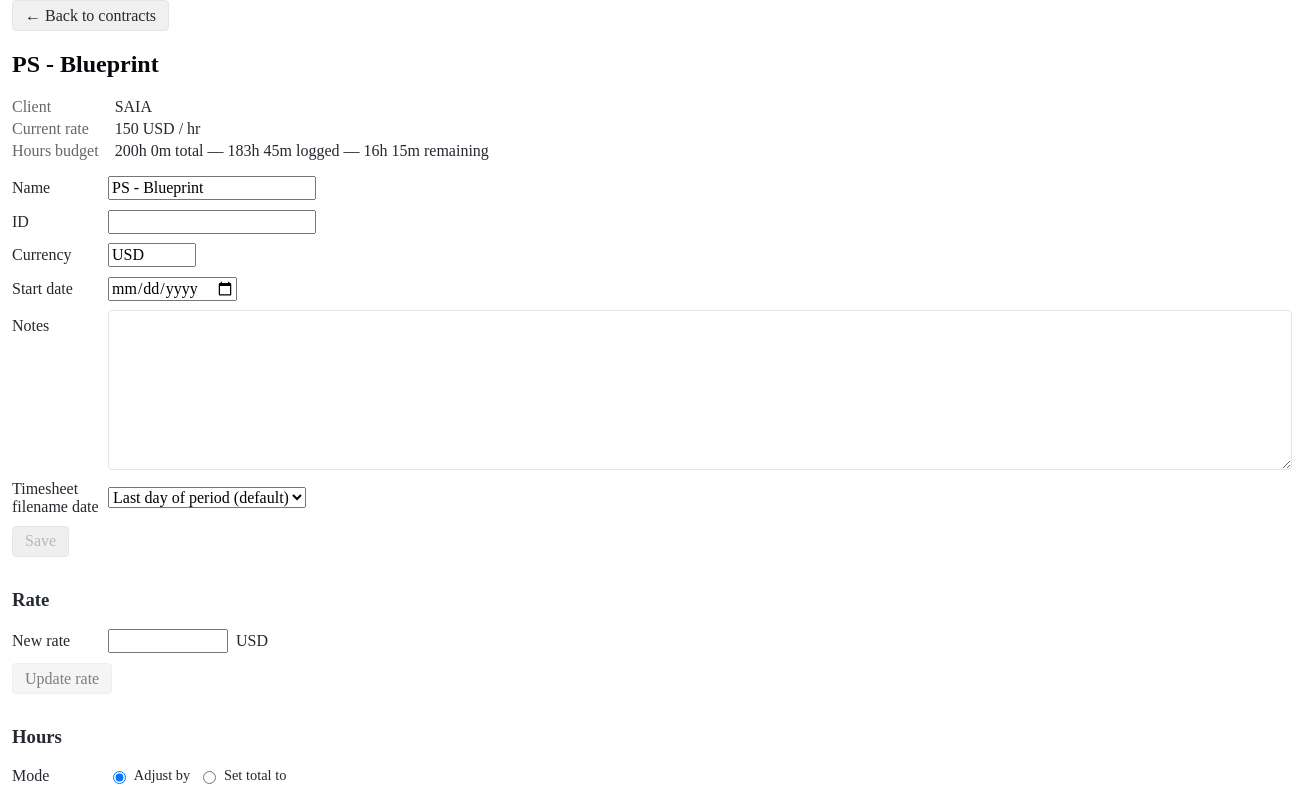
Test: Contract detail Hours section › previews the resulting budget and remaining hours before committing
Click the radio button labelled "Set total to" at (210, 778), box [203,771,216,784]
(page scrolled)
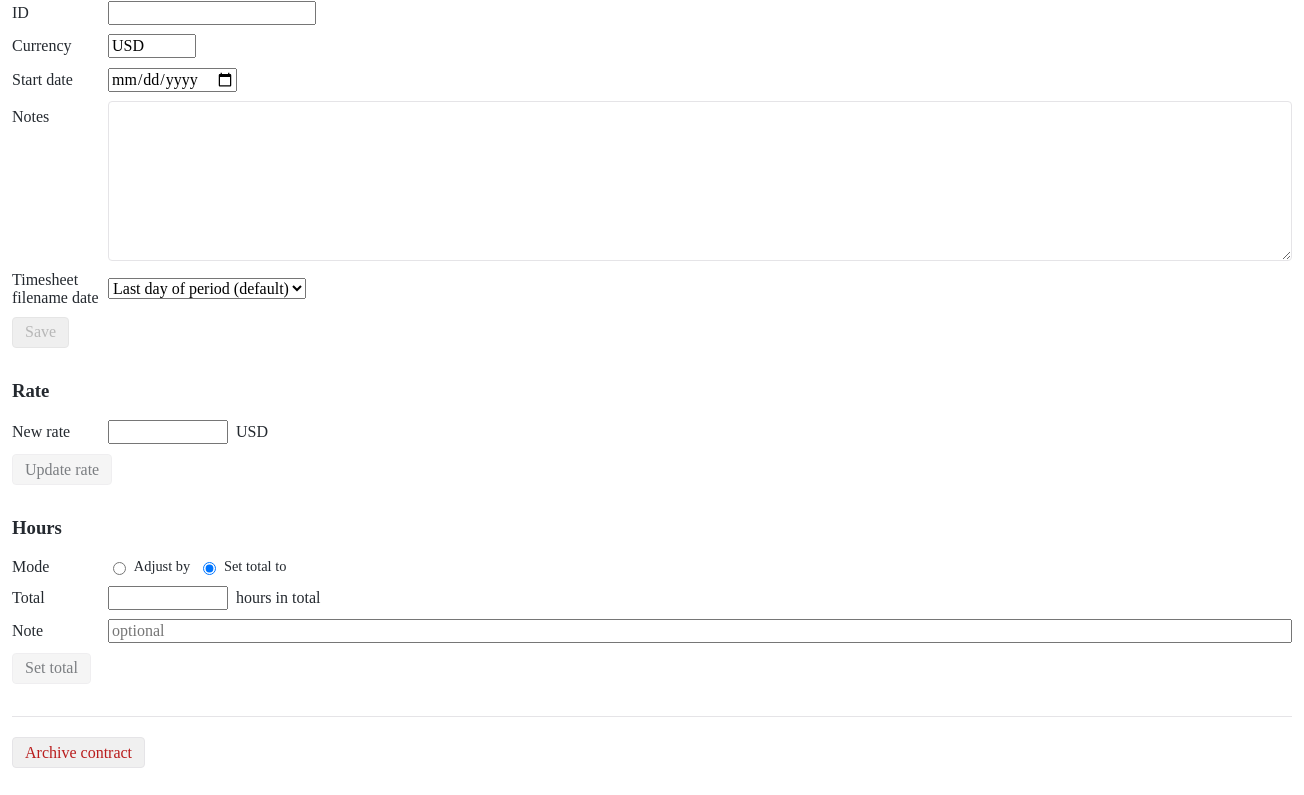
Type "235.25" into the number field with id "hours-adjustment" at (168, 598), box [108,586,228,610]
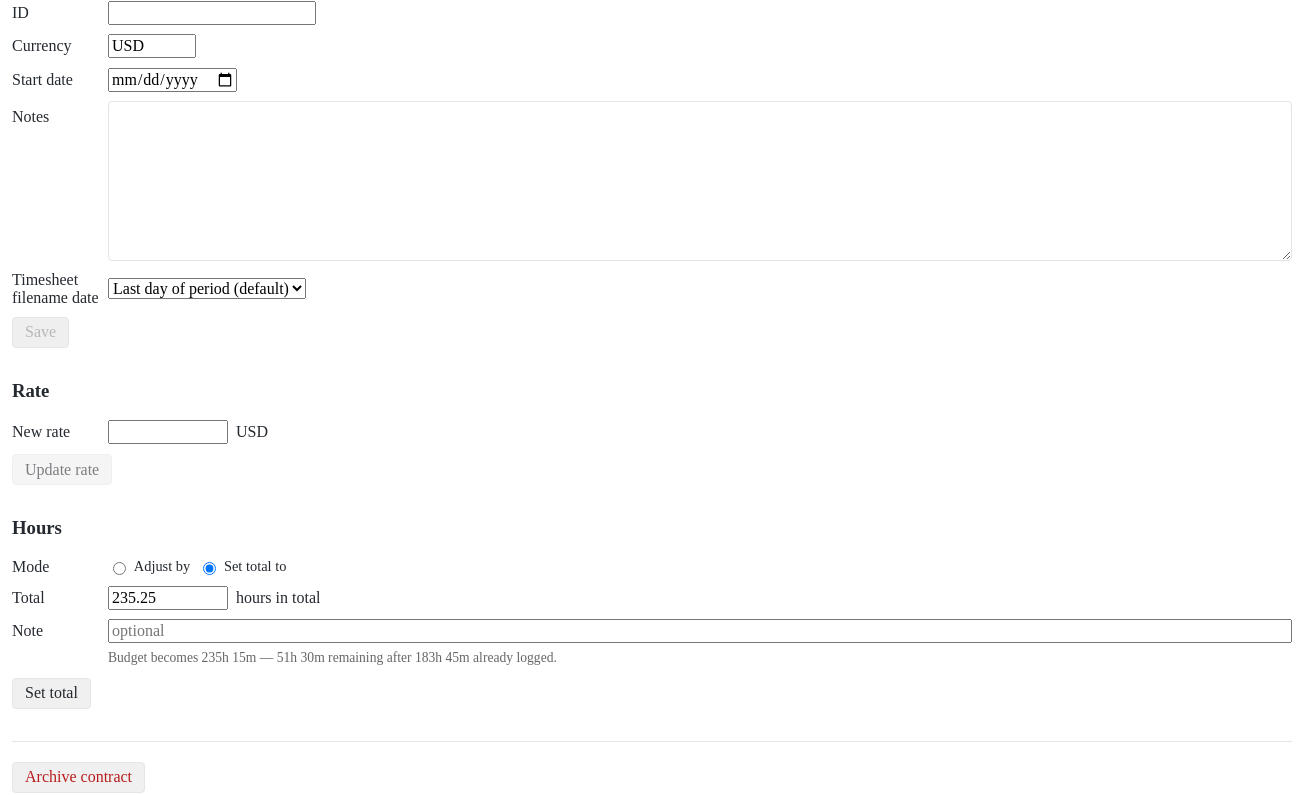
Expected: the text "51h 30m" is shown, [108,650,557,665]
